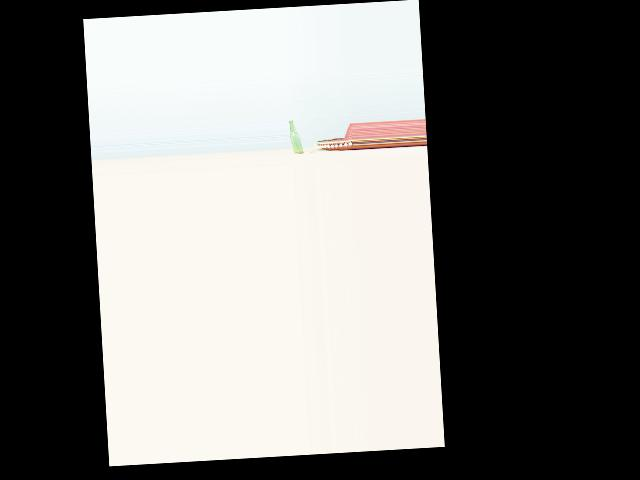beer: (289, 119, 303, 154)
